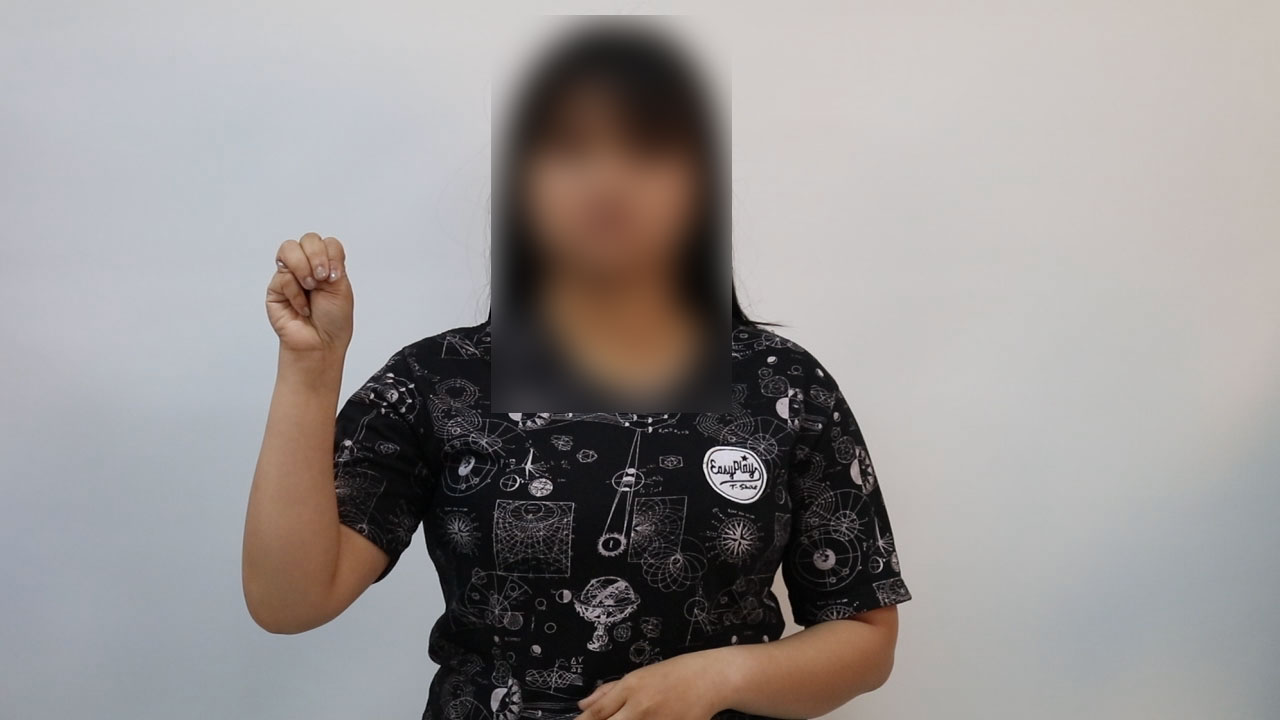mor: (262, 223, 364, 376)
